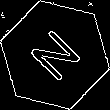N_SE: (23, 23, 87, 87)
